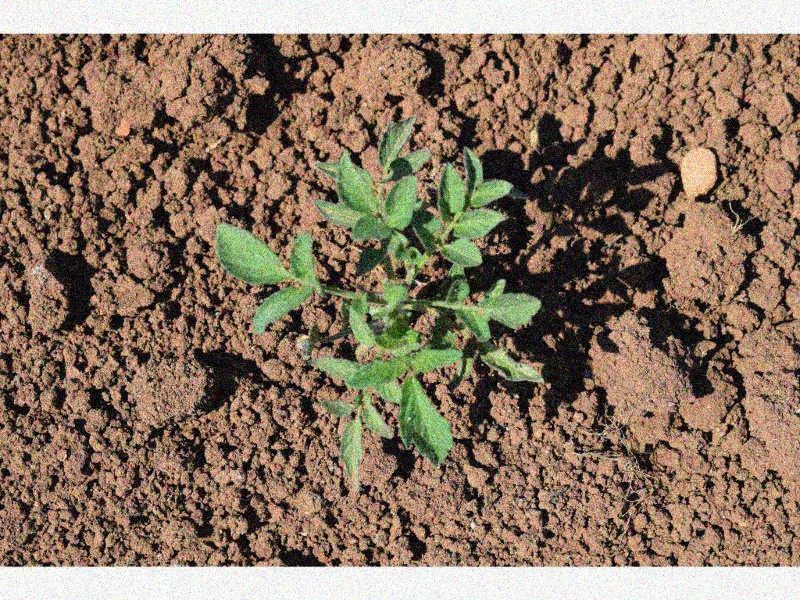tomato: (216, 114, 542, 479)
